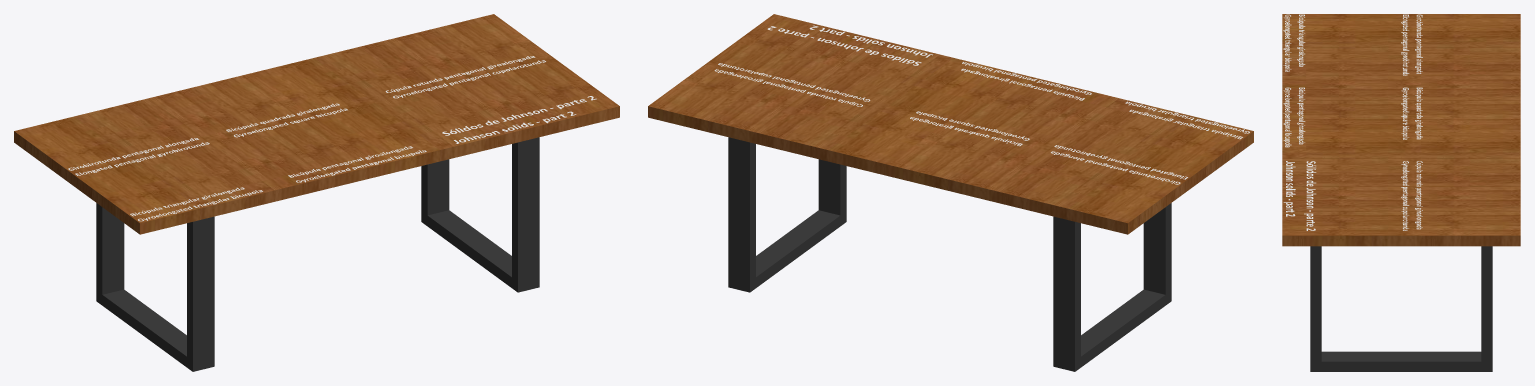
The model's file is johnson2c.glb.
3 views of the same model, side by side, from view 1: azimuth 30°, elevation 25°; view 2: azimuth 150°, elevation 25°; view 3: azimuth 270°, elevation 25° (orthographic). The views are drawn at different scales.
Parts seen in each view (by area): view 1: object 1, Composant#1 (×2), Sólidos de Johns#1, Cúpula rotunda p, Girobirotunda pe, Bicúpula pentago, Bicúpula triangu, Bicúpula quadrad; view 2: object 1, Composant#1 (×2), Sólidos de Johns#1, Cúpula rotunda p, Girobirotunda pe, Bicúpula pentago, Bicúpula triangu, Bicúpula quadrad; view 3: object 1, Composant#1, Sólidos de Johns#1, Cúpula rotunda p, Bicúpula pentago, Girobirotunda pe, Bicúpula triangu, Bicúpula quadrad.
Boxes of the visible parts, left/top/right/bottom form: object 1: left=14, top=14, right=619, bottom=234; Composant#1 (×2): left=96, top=137, right=539, bottom=371; Sólidos de Johns#1: left=442, top=96, right=596, bottom=143; Cúpula rotunda p: left=385, top=56, right=545, bottom=98; Girobirotunda pe: left=68, top=138, right=209, bottom=175; Bicúpula pentago: left=288, top=146, right=426, bottom=182; Bicúpula triangu: left=130, top=187, right=262, bottom=221; Bicúpula quadrad: left=226, top=103, right=347, bottom=137; object 1: left=648, top=14, right=1253, bottom=234; Composant#1 (×2): left=728, top=137, right=1171, bottom=371; Sólidos de Johns#1: left=767, top=25, right=932, bottom=65; Cúpula rotunda p: left=714, top=63, right=870, bottom=106; Girobirotunda pe: left=1051, top=145, right=1187, bottom=184; Bicúpula pentago: left=961, top=62, right=1091, bottom=100; Bicúpula triangu: left=1125, top=101, right=1249, bottom=139; Bicúpula quadrad: left=910, top=111, right=1029, bottom=146; object 1: left=1282, top=14, right=1520, bottom=246; Composant#1: left=1310, top=246, right=1492, bottom=371; Sólidos de Johns#1: left=1283, top=161, right=1316, bottom=230; Cúpula rotunda p: left=1401, top=161, right=1422, bottom=230; Bicúpula pentago: left=1283, top=87, right=1305, bottom=147; Girobirotunda pe: left=1401, top=14, right=1422, bottom=75; Bicúpula triangu: left=1283, top=14, right=1305, bottom=71; Bicúpula quadrad: left=1401, top=87, right=1422, bottom=139.
Size of the model in its own units: 2.2 by 0.7711 by 1.
3 materials, 1 textured.
